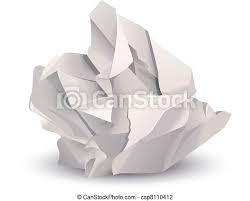crumpled paper: (24, 6, 234, 181)
